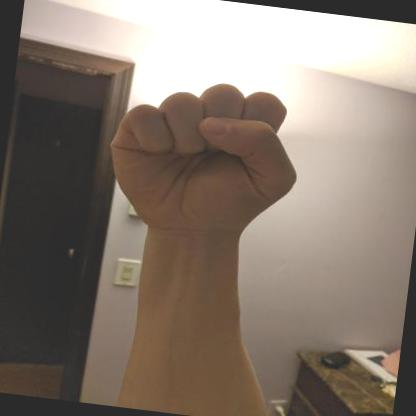S: (110, 83, 296, 242)
